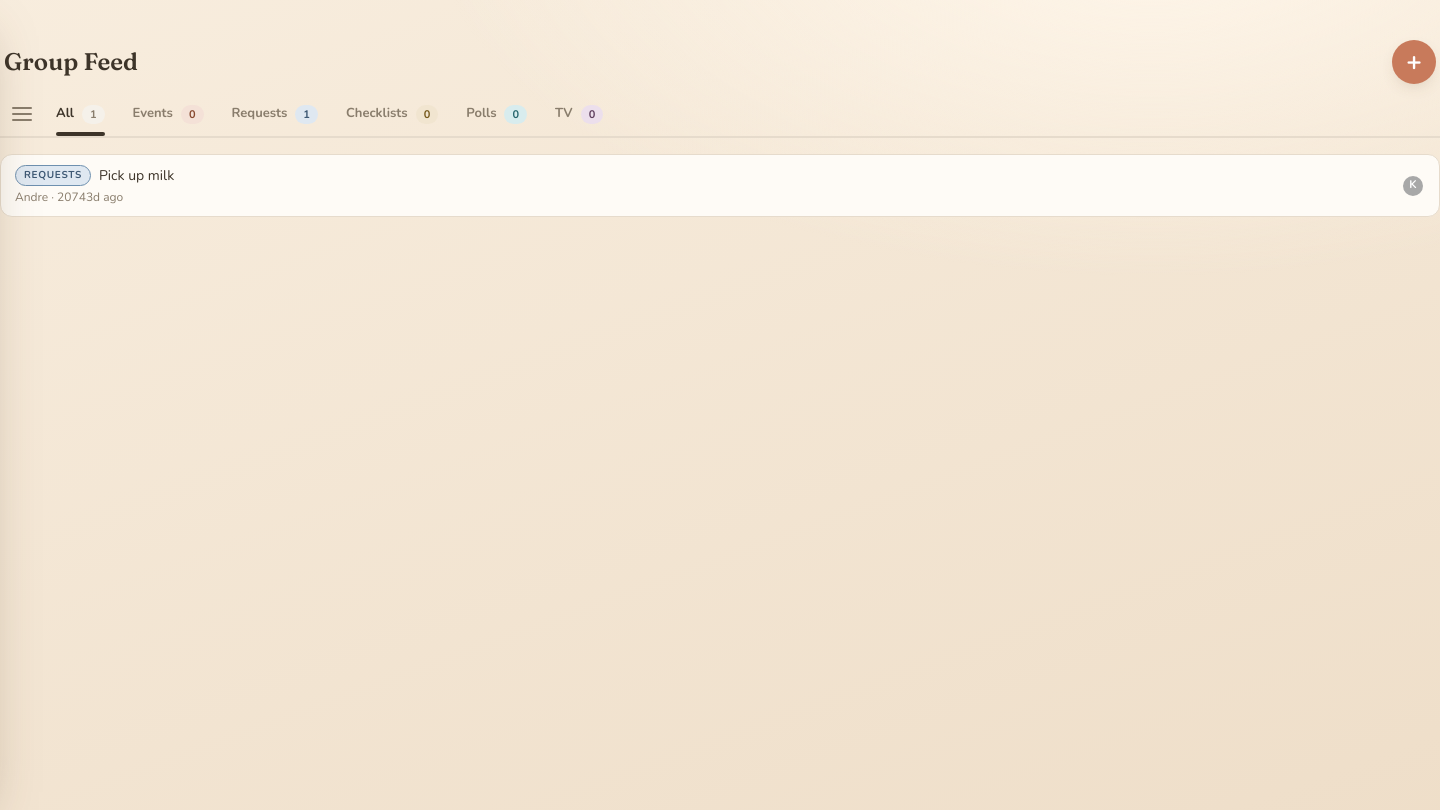
Test: GroupFeed module focus › opens from the expanded bottom action without collapsing the card
This screenshot has width=1440, height=810.
What coordinates should you click on to do the following:
click the text "Pick up milk"
I would click on:
 (137, 176)
Its box is [99,165,174,186].
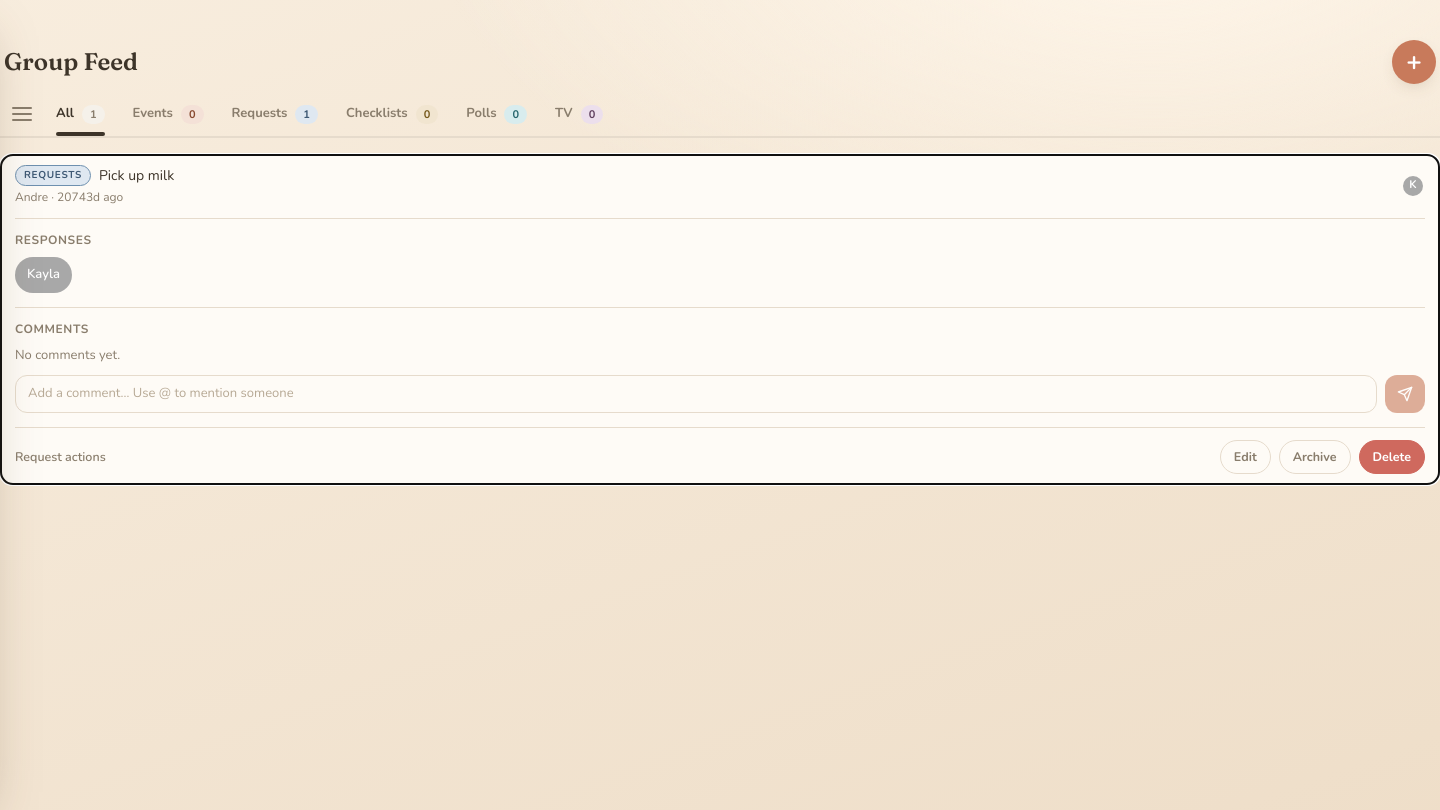
Check: the button "Pick up milk" is expanded, box [0,154,1439,485]
What coordinates should you click on to do the following:
click the button "Edit"
I would click on:
 (1245, 457)
Its box is [1220,440,1271,474].
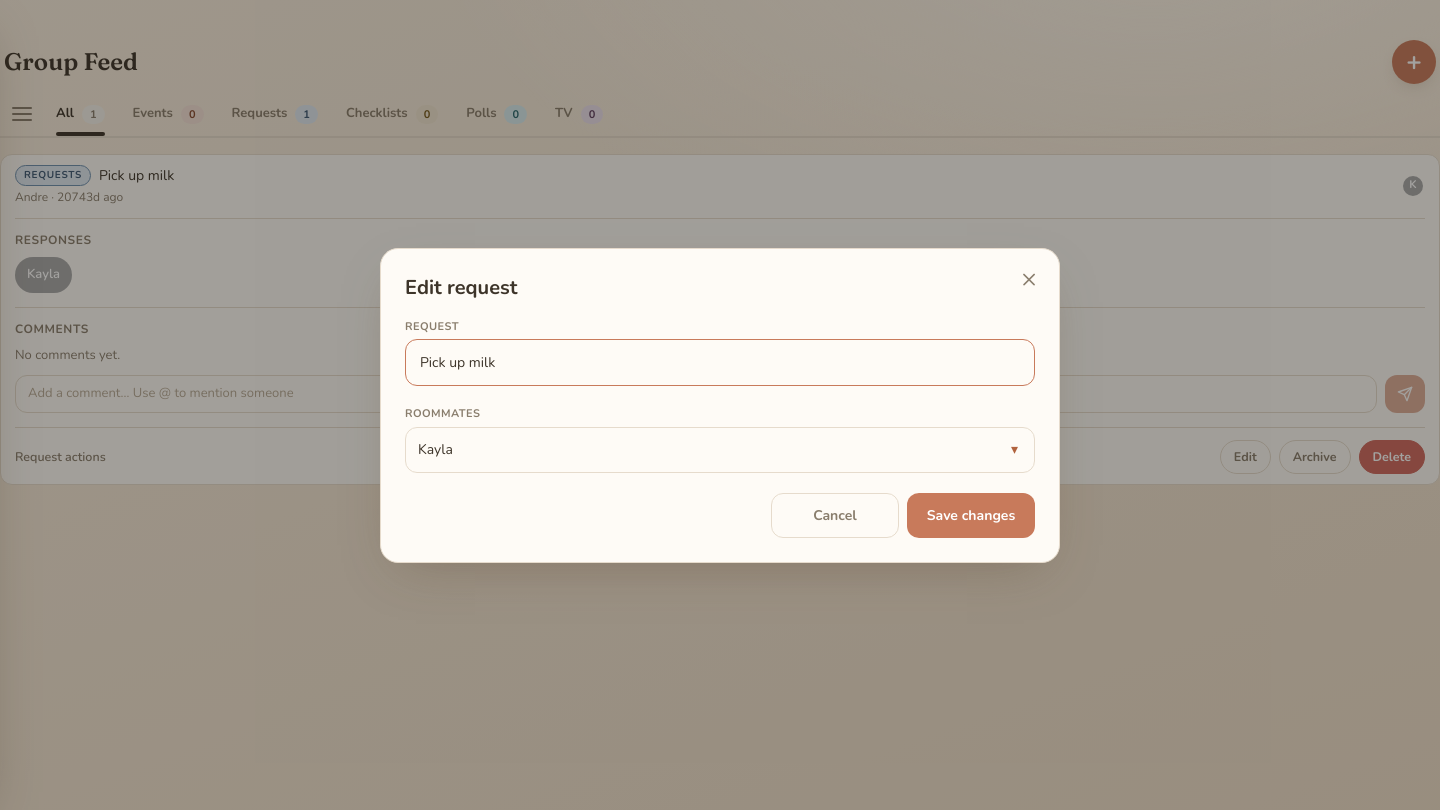
Check: the button "Pick up milk" is expanded, box [0,154,1439,485]
Check: the dialog "Edit request" is shown, box [380,248,1060,562]
